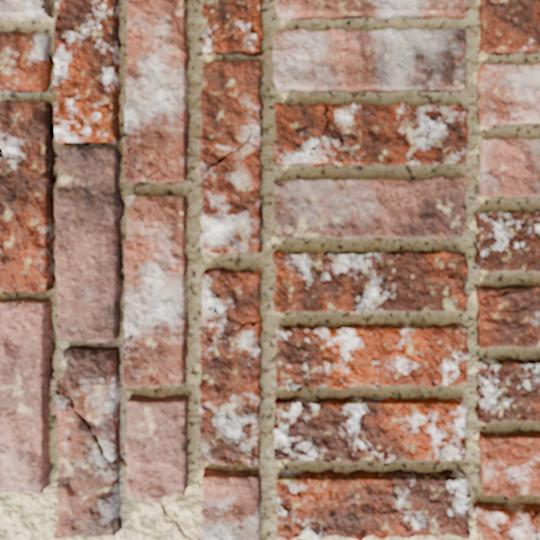brick: (0, 0, 123, 341), (277, 469, 469, 539), (275, 323, 468, 388), (274, 397, 465, 462), (199, 268, 262, 465), (124, 194, 188, 385), (273, 29, 466, 92), (273, 103, 468, 165), (274, 176, 467, 238), (200, 60, 262, 253), (273, 251, 467, 312), (125, 0, 189, 183), (0, 298, 52, 493), (126, 395, 187, 499), (202, 468, 261, 539), (476, 358, 539, 422), (478, 431, 539, 496), (477, 285, 539, 348), (475, 211, 539, 271), (477, 64, 539, 125), (276, 0, 467, 19), (478, 138, 539, 197), (203, 0, 262, 55), (479, 0, 539, 54), (473, 501, 539, 539), (0, 0, 50, 19), (124, 151, 144, 182), (122, 362, 140, 386), (535, 515, 539, 537), (251, 137, 259, 148)
broken_brick: (53, 344, 122, 539), (0, 30, 52, 93)
crack: (204, 122, 260, 171), (123, 128, 167, 182), (207, 305, 261, 342), (309, 102, 346, 156), (122, 334, 159, 388), (153, 499, 192, 539), (498, 509, 539, 539), (482, 286, 526, 299), (49, 337, 56, 378), (517, 0, 527, 10), (461, 6, 469, 14), (2, 290, 11, 297), (121, 458, 128, 466), (50, 319, 54, 329), (0, 148, 3, 157)
